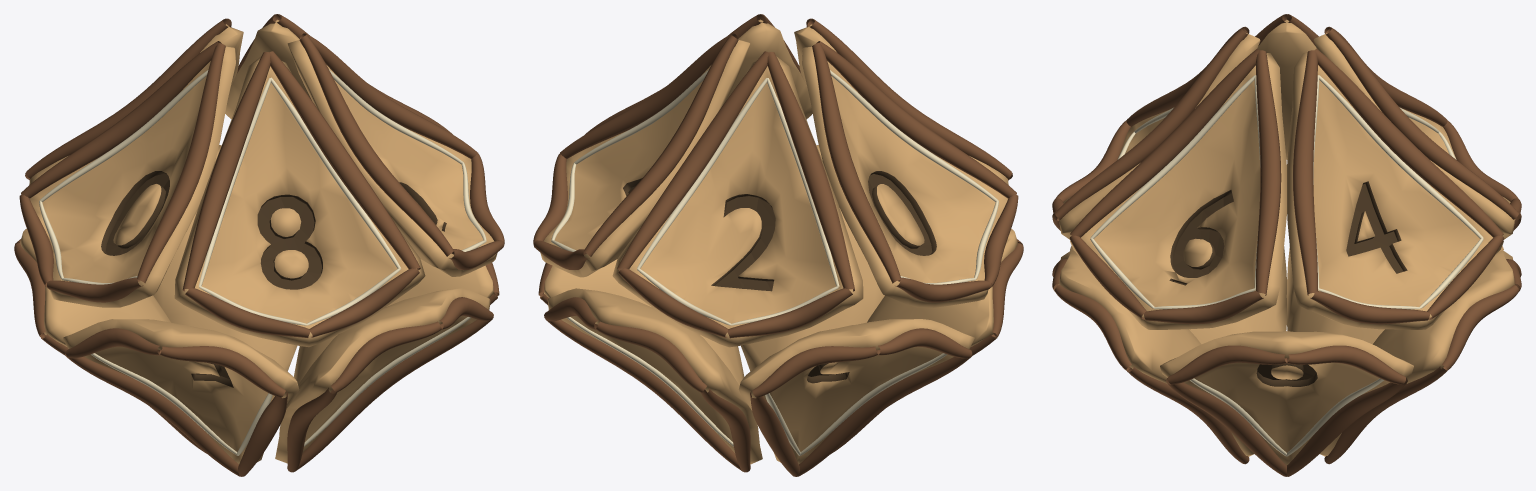
The picture shows the model from 3 angles, left to right: view 1: azimuth 30°, elevation 25°; view 2: azimuth 150°, elevation 25°; view 3: azimuth 270°, elevation 25°; orthographic projection.
Visible parts, largest first — view 1: woodland sculpted d10 canonical die-only; view 2: woodland sculpted d10 canonical die-only; view 3: woodland sculpted d10 canonical die-only.
Part boxes in pixels (x1,y1,x2,y2): woodland sculpted d10 canonical die-only: [14, 14, 504, 476]; woodland sculpted d10 canonical die-only: [533, 14, 1023, 476]; woodland sculpted d10 canonical die-only: [1052, 14, 1521, 476].
Size of the model in its own units: 2.26 by 2.16 by 2.17.
